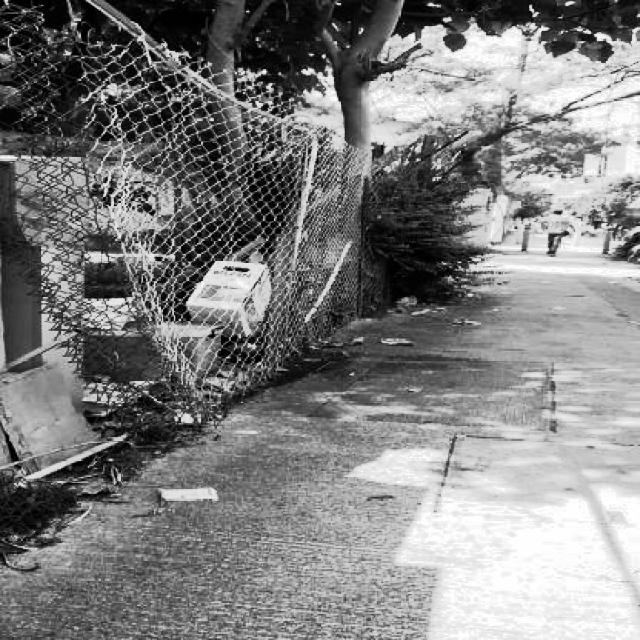anomaly-fence: (0, 0, 194, 485)
